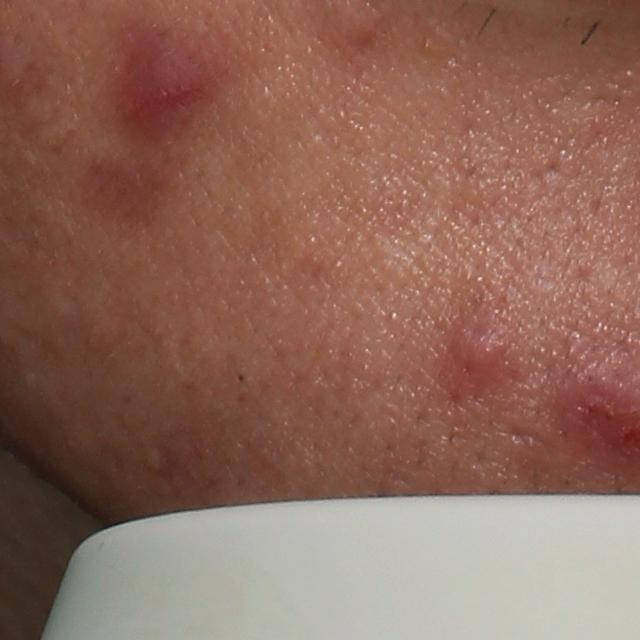hypertrophic_scar: (371, 242, 422, 288)
papule: (109, 31, 204, 122), (445, 319, 511, 396)
